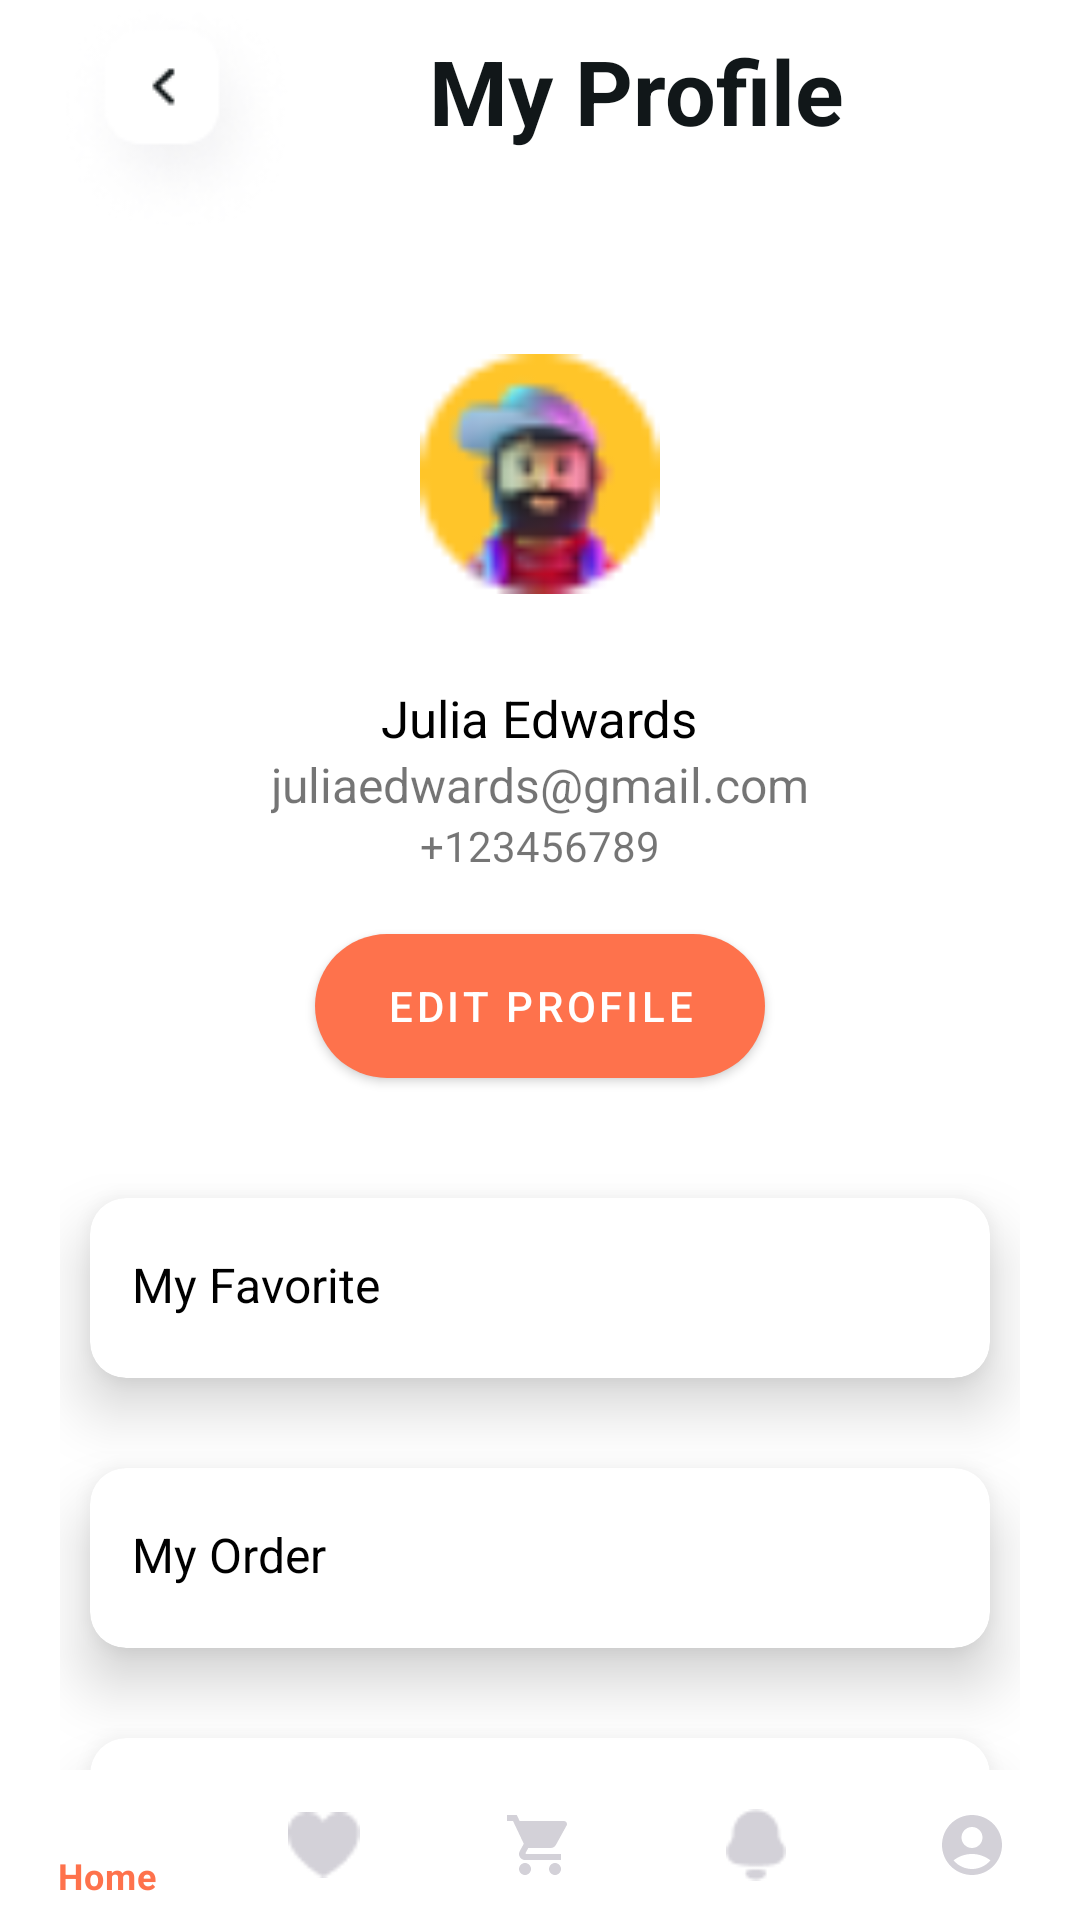

Locate icon controls on the screen. Image size 1080 x 1920, boxes as {"x1": x1, "y1": y1, "x2": x2, "y2": y2}.
back: {"x1": 152, "y1": 68, "x2": 175, "y2": 106}
